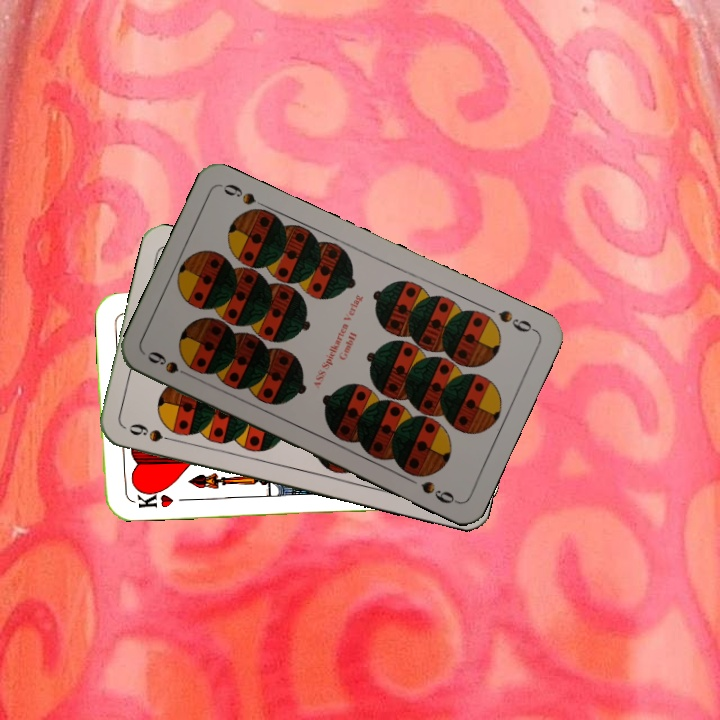HK: (125, 484, 175, 511)
S9: (143, 347, 198, 381), (125, 419, 181, 445), (494, 306, 539, 335)
